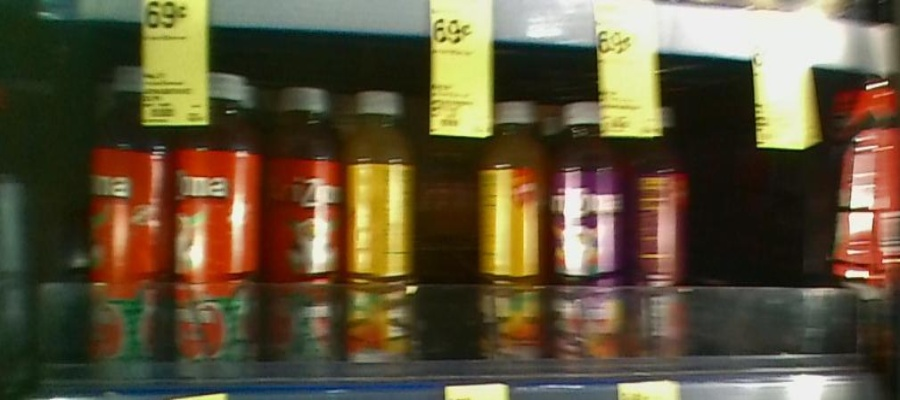bottle: (85, 57, 172, 392), (176, 57, 262, 393), (266, 61, 343, 400), (546, 88, 623, 381), (622, 92, 690, 384), (345, 73, 410, 371), (480, 98, 543, 378)
